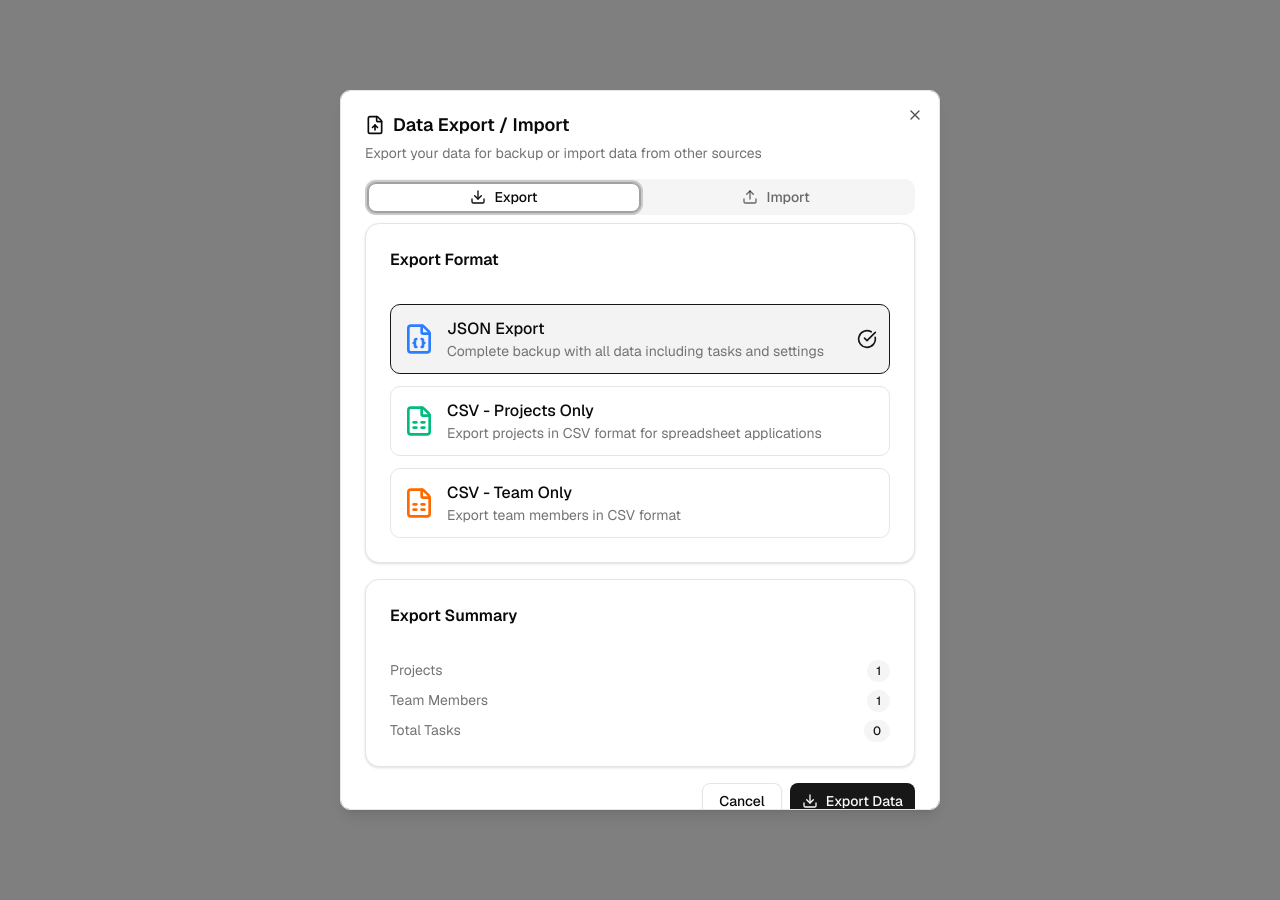
DataExportImportDialog › switches to import tab when clicked
The width and height of the screenshot is (1280, 900).
Click the tab "Import": [776, 197] box [640,182,912,212]
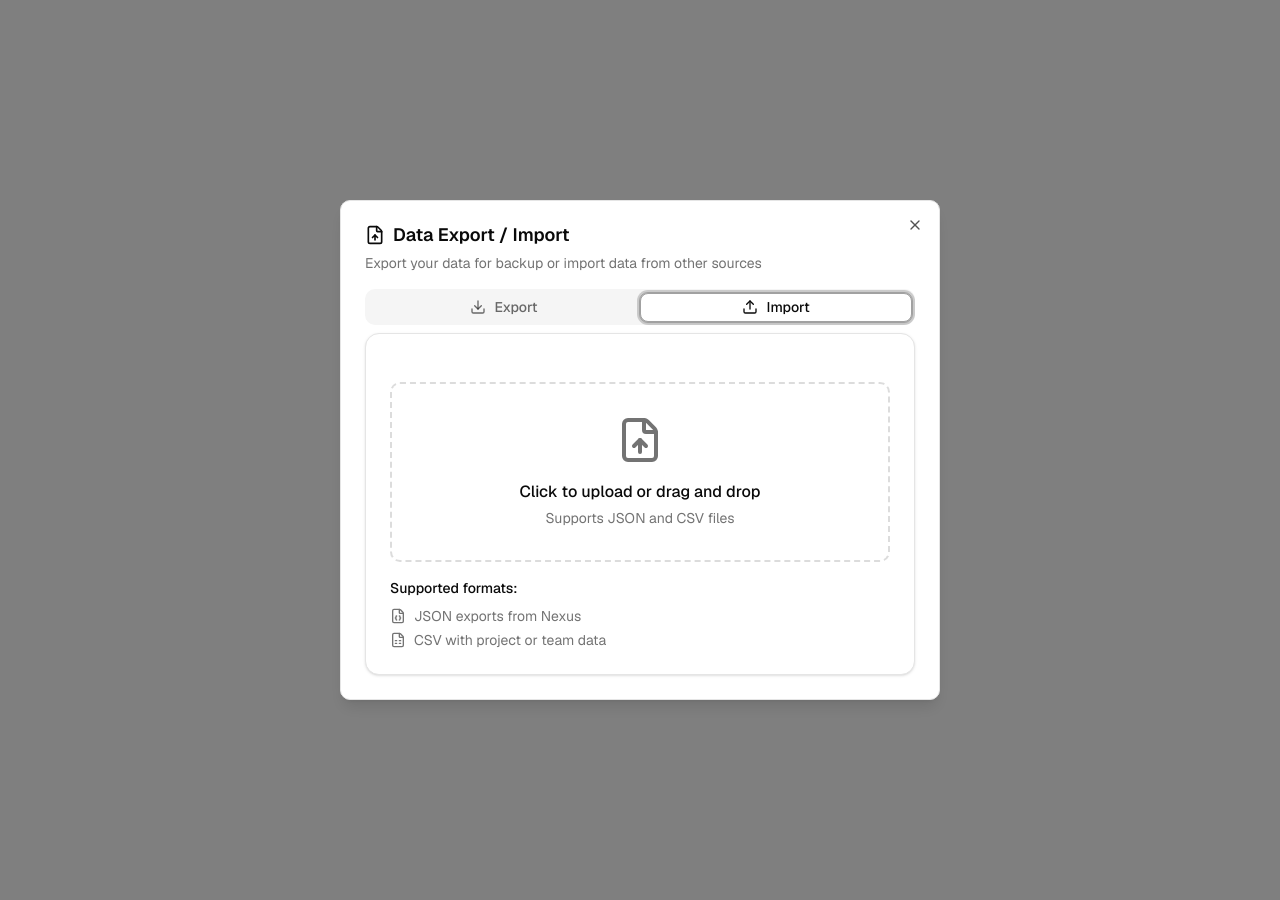
Expected: the text "Click to upload or drag and drop" is shown, [520,481,760,502]
